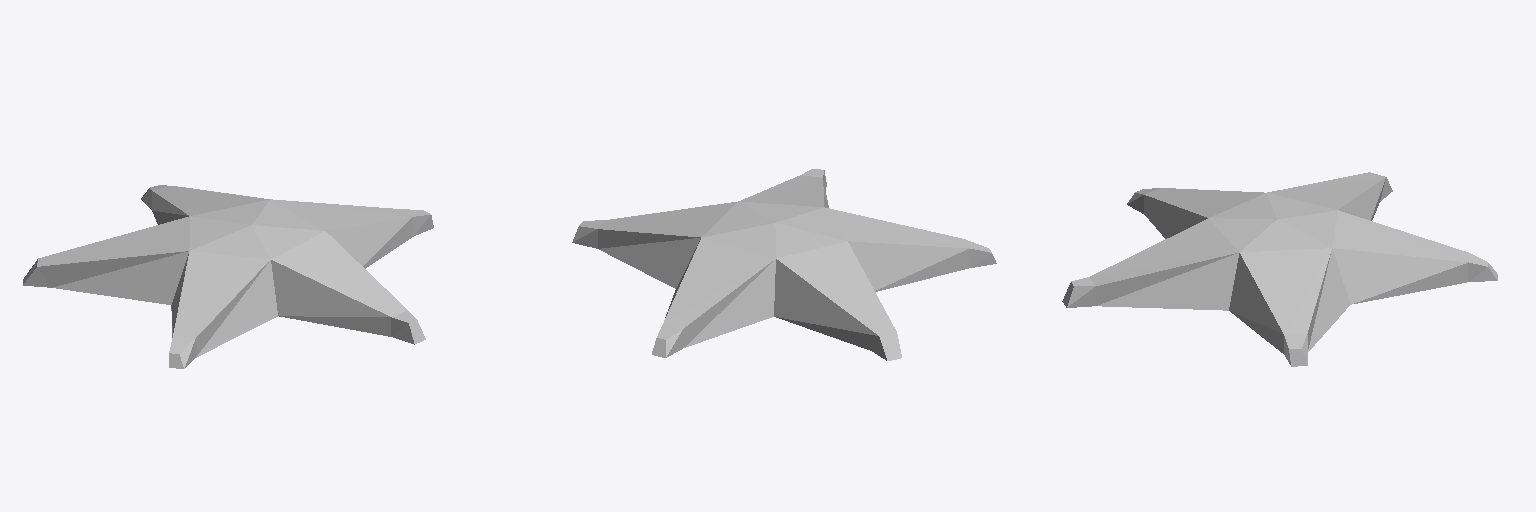
Rendered from star.obj.
3 renders of one model, left to right at view 1: azimuth 30°, elevation 25°; view 2: azimuth 150°, elevation 25°; view 3: azimuth 270°, elevation 25°, orthographic.
Size of the model in its own units: 4.84 by 0.8445 by 4.97.